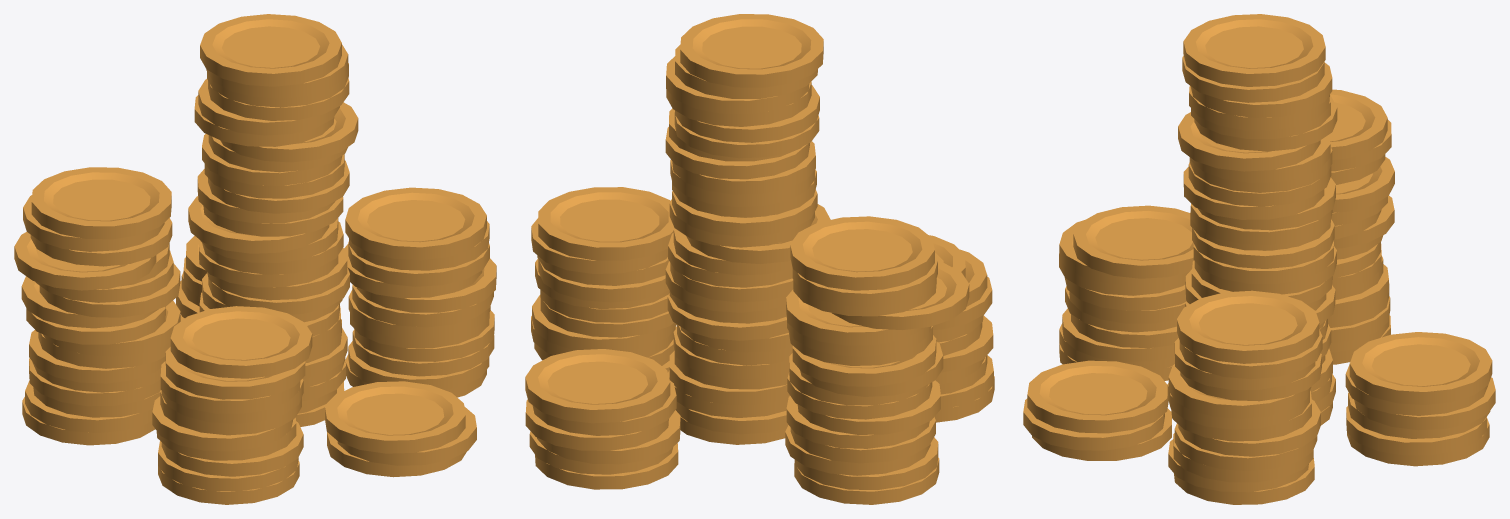
File: coins_model.fbx
3 renders of one model, left to right at view 1: azimuth 30°, elevation 25°; view 2: azimuth 150°, elevation 25°; view 3: azimuth 270°, elevation 25°, orthographic. The views are drawn at different scales.
Parts seen in each view (by area): view 1: Coin.089, Coin.036, Coin.051, Coin.054, Coin.031, Coin.039, Coin.088, Coin.027, Coin.014, Coin.084, Coin.082, Coin.047 (+53 smaller); view 2: Coin.025, Coin.054, Coin.036, Coin.051, Coin.039, Coin.069, Coin.038, Coin.016, Coin.026, Coin.032, Coin.065, Coin.053 (+57 smaller); view 3: Coin.025, Coin.036, Coin.051, Coin.031, Coin.089, Coin.027, Coin.054, Coin.047, Coin.013, Coin.030, Coin.021, Coin.034 (+49 smaller).
Boxes of the visible parts, x1,y1,x2,y2 form: Coin.089: [170, 306, 312, 378]; Coin.036: [200, 14, 341, 86]; Coin.051: [345, 187, 486, 260]; Coin.054: [31, 167, 171, 239]; Coin.031: [325, 381, 465, 453]; Coin.039: [14, 232, 156, 290]; Coin.088: [165, 347, 305, 399]; Coin.027: [220, 102, 358, 162]; Coin.014: [188, 196, 329, 253]; Coin.084: [152, 396, 293, 451]; Coin.082: [161, 421, 303, 476]; Coin.047: [356, 258, 496, 312]; Coin.025: [525, 349, 670, 423]; Coin.054: [790, 216, 934, 290]; Coin.036: [680, 14, 823, 87]; Coin.051: [538, 187, 674, 260]; Coin.039: [832, 261, 969, 329]; Coin.069: [792, 335, 936, 386]; Coin.038: [786, 289, 922, 345]; Coin.016: [672, 189, 817, 236]; Coin.026: [665, 127, 809, 179]; Coin.032: [675, 85, 819, 142]; Coin.065: [797, 380, 940, 434]; Coin.053: [792, 257, 937, 307]; Coin.025: [1349, 332, 1492, 404]; Coin.036: [1183, 14, 1325, 86]; Coin.051: [1177, 290, 1319, 363]; Coin.031: [1027, 360, 1168, 433]; Coin.089: [1073, 205, 1193, 278]; Coin.027: [1178, 112, 1320, 171]; Coin.054: [1329, 89, 1387, 159]; Coin.047: [1168, 364, 1311, 418]; Coin.013: [1192, 219, 1334, 268]; Coin.030: [1023, 398, 1164, 450]; Coin.021: [1346, 406, 1486, 455]; Coin.034: [1190, 62, 1332, 117].
Bounding box in the file's own units: 35.37 × 28 × 33.08.
